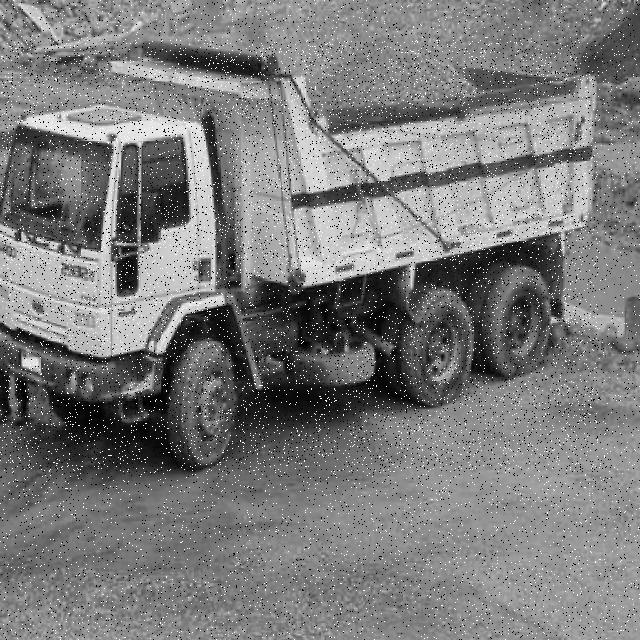Truck- Multi-Axle: (0, 40, 598, 472)
